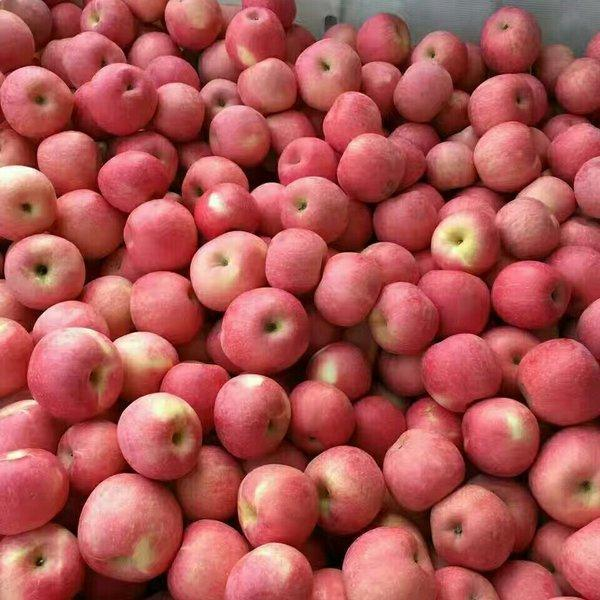apple: (77, 472, 180, 582), (25, 325, 124, 423), (115, 390, 203, 486), (216, 287, 309, 375), (514, 336, 597, 429), (381, 427, 469, 514), (234, 464, 322, 551), (303, 446, 391, 533), (428, 485, 519, 569), (526, 425, 600, 526), (210, 372, 292, 458), (167, 517, 252, 598), (459, 397, 543, 478), (187, 230, 267, 313), (1, 522, 84, 600), (342, 527, 430, 599), (416, 333, 501, 407), (5, 231, 87, 307), (125, 270, 211, 342), (1, 447, 69, 536), (491, 258, 571, 329), (1, 65, 74, 141), (367, 281, 442, 354), (290, 380, 358, 457), (294, 37, 365, 110), (88, 62, 159, 135), (123, 199, 195, 270), (312, 252, 380, 327), (274, 174, 350, 240), (471, 123, 543, 192), (332, 133, 404, 202), (227, 542, 313, 598), (477, 6, 543, 76), (418, 270, 489, 335), (493, 195, 561, 258), (431, 209, 499, 272), (1, 166, 57, 242), (97, 151, 165, 213), (392, 59, 452, 127), (263, 229, 324, 295), (371, 190, 433, 249), (466, 75, 532, 130), (225, 5, 287, 63), (209, 106, 271, 164), (183, 156, 248, 206)
